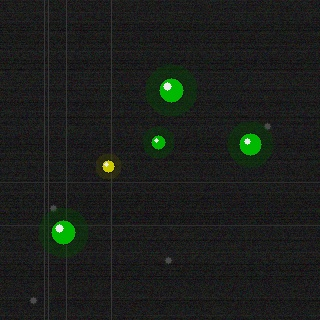green_normal: (49, 218, 77, 246), (157, 76, 185, 104), (237, 131, 263, 157), (149, 133, 167, 151)
yellow_warning: (100, 158, 116, 174)
